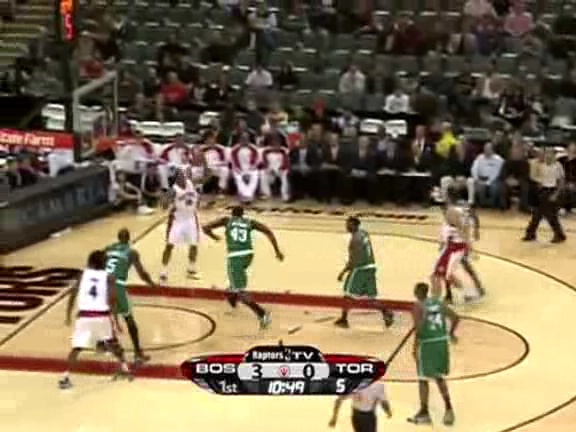person: (347, 224, 381, 305), (346, 224, 380, 305), (348, 224, 382, 305), (347, 223, 381, 304), (347, 225, 381, 306)
target_negative: (137, 120, 459, 376), (49, 27, 526, 169), (152, 121, 438, 313), (484, 177, 500, 396), (493, 48, 508, 165), (532, 285, 553, 289)
